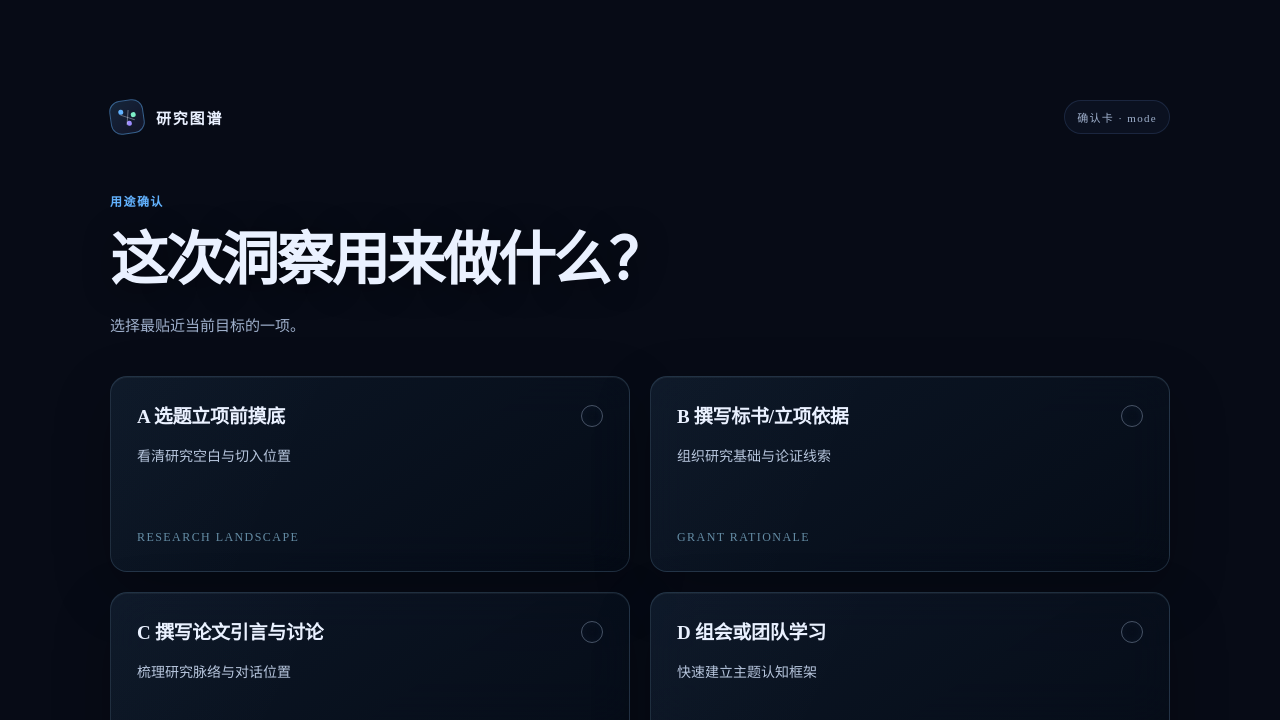
TaskWizard › shows an in-card loading indicator while confirmation is pending
The width and height of the screenshot is (1280, 720).
Later steps or results of the test are not shown.
Click the button "A 选题立项前摸底 看清研究空白与切入位置 Research landscape" at (211, 417), box top-left (110, 376), bottom-right (630, 572)
(page scrolled)
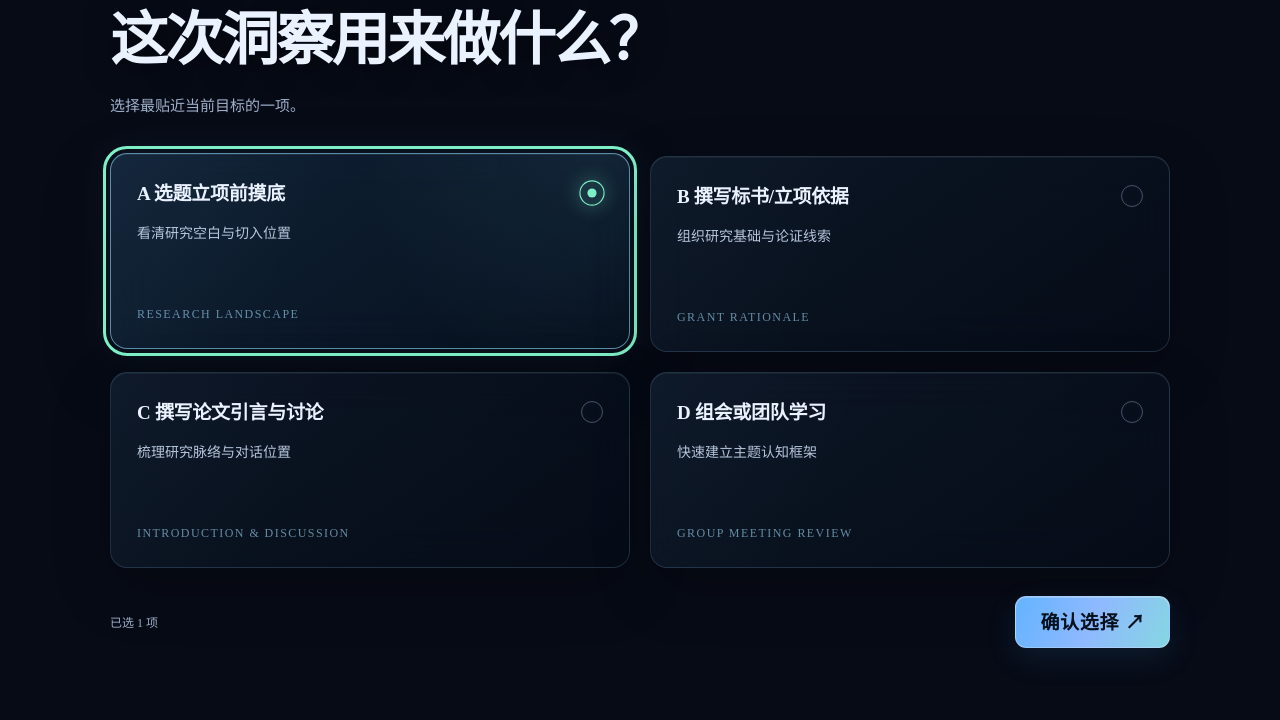
Click the button "确认选择 ↗" at (1093, 622), box top-left (1015, 596), bottom-right (1170, 648)
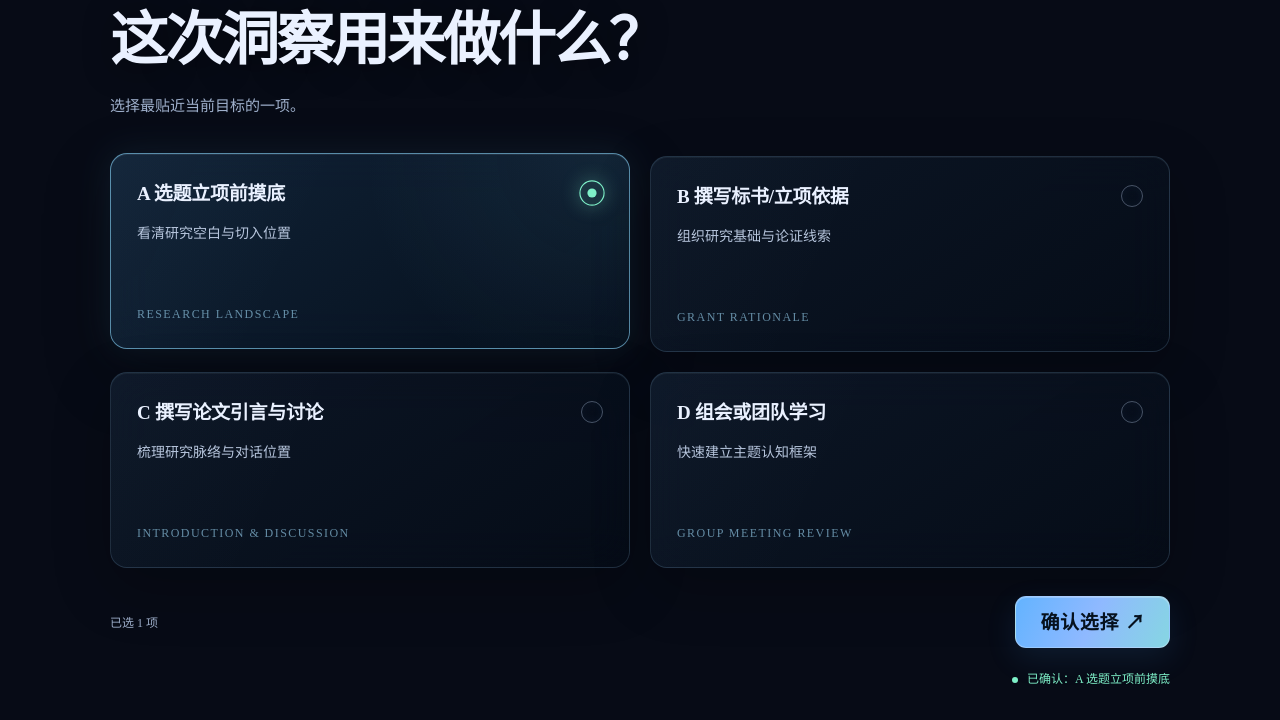
Expected: the text "已确认：A 选题立项前摸底" is shown, top-left (1012, 670), bottom-right (1170, 689)
